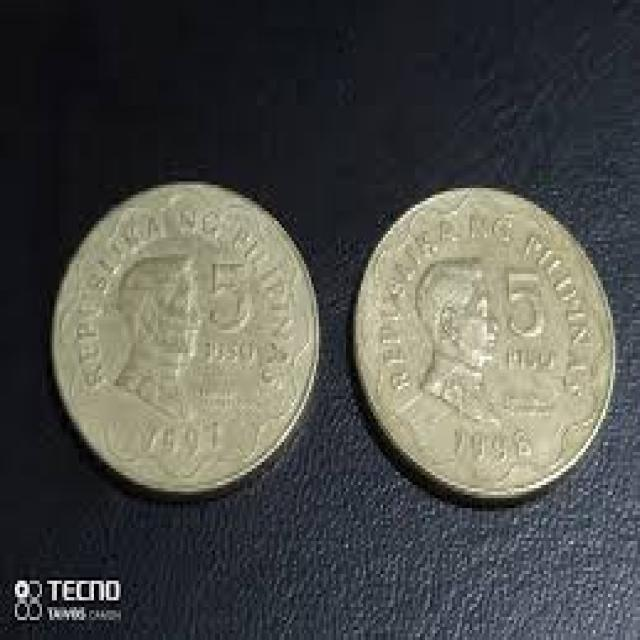5 peso: (45, 167, 328, 501), (347, 177, 623, 509)
